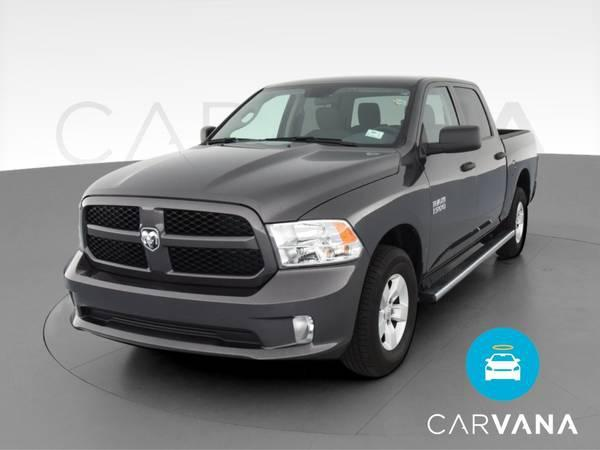Front_Bumper: (67, 251, 367, 360)
Front_Fender: (298, 143, 432, 269)
Front_Left_Door: (418, 141, 481, 266)
Front_Left_Window: (415, 83, 470, 151)
Front_Windshield: (208, 81, 416, 146)
Grille: (81, 192, 279, 285)
Hood: (81, 137, 398, 220)
Left_Headlight: (268, 218, 370, 268)
Rear_Fender: (503, 127, 540, 212)
Rear_Left_Door: (471, 132, 513, 234)
Rear_Left_Window: (456, 87, 495, 142)
Roof: (263, 74, 496, 148)
Wheel: (344, 244, 423, 377), (501, 191, 528, 256)
